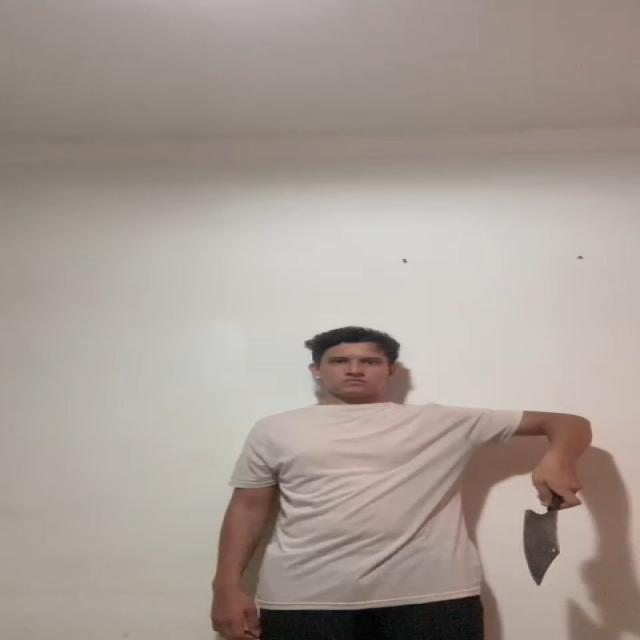knife: (520, 507, 562, 584)
